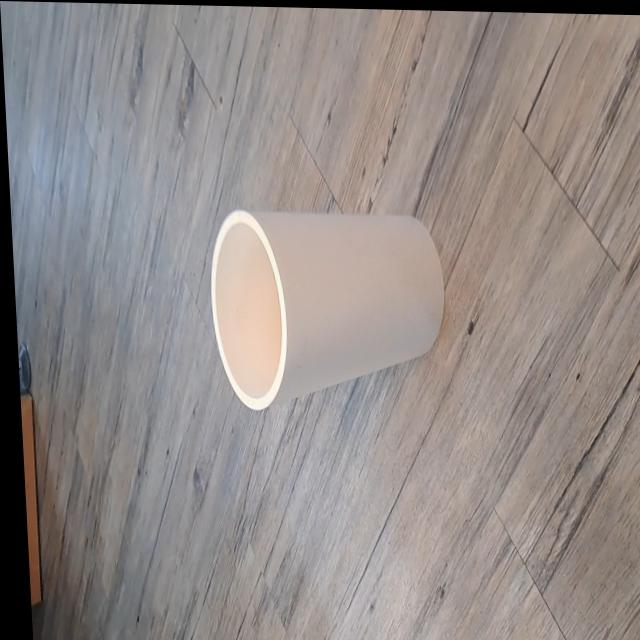CORAL: (193, 150, 482, 448)
